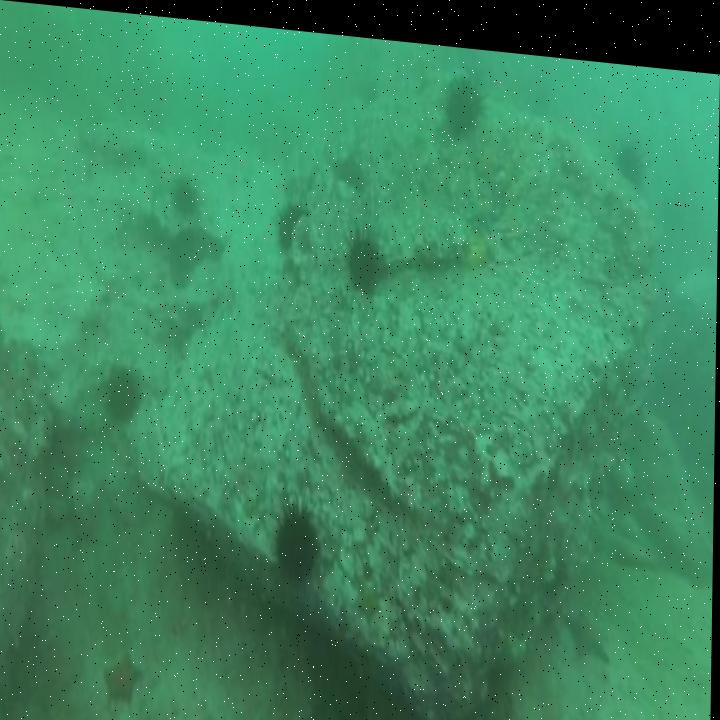echinus: (269, 490, 327, 587), (442, 61, 488, 136), (345, 215, 386, 288), (102, 359, 146, 426), (615, 118, 651, 181), (274, 193, 310, 253), (170, 171, 200, 221)
starfish: (102, 640, 146, 707), (566, 595, 613, 657), (353, 564, 387, 622), (569, 696, 619, 720)
